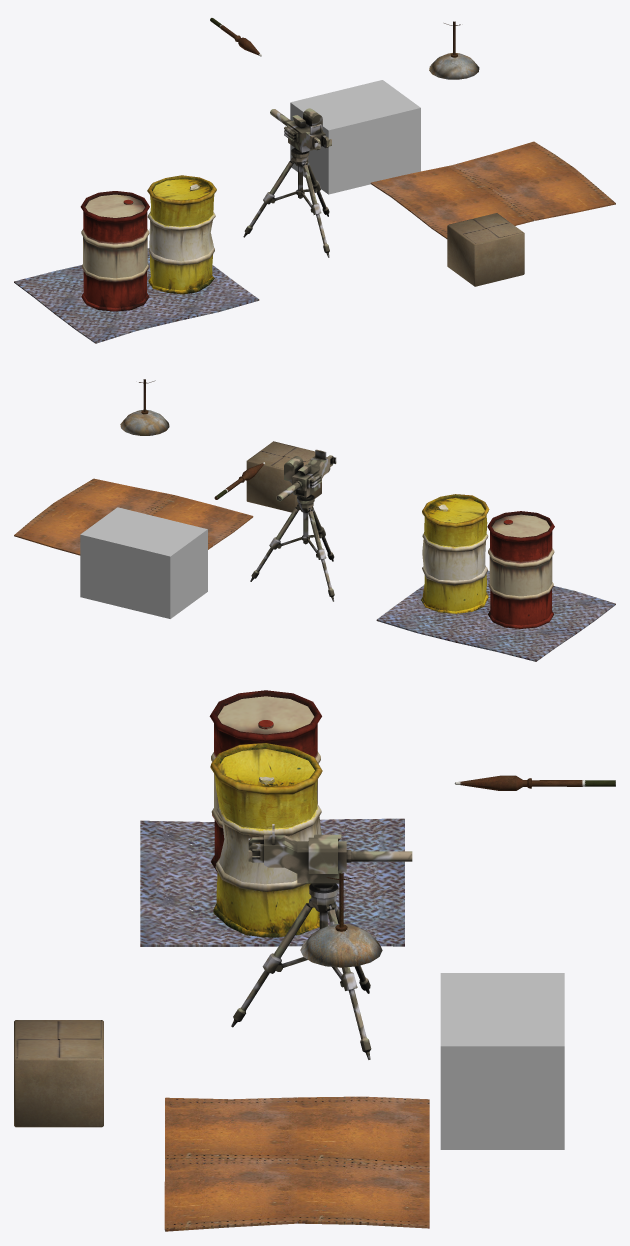
Rendered from CompoundExtras.FBX.
The picture shows the model from 3 angles, top to bottom: view 1: azimuth 30°, elevation 25°; view 2: azimuth 150°, elevation 25°; view 3: azimuth 270°, elevation 25°; orthographic projection. The views are drawn at different scales.
Visible parts, largest first — view 1: Sheet Metal Rusty, Crate, Sheet Metal Treads, Barrel, Barrel Dead Replacement, Cardboard Box, Sentry Tripod, Sentry Gun, Lamp; view 2: Crate, Sheet Metal Treads, Sheet Metal Rusty, Barrel Dead Replacement, Barrel, Cardboard Box, Sentry Tripod, Sentry Gun, Lamp; view 3: Sheet Metal Rusty, Crate, Sheet Metal Treads, Barrel Dead Replacement, Cardboard Box, Barrel, Sentry Gun, Sentry Tripod, Lamp, Rocket.
Boxes of the visible parts, x1,y1,x2,y2 form: Sheet Metal Rusty: (370,141,615,238); Crate: (290,80,420,194); Sheet Metal Treads: (14,248,259,343); Barrel: (80,191,149,311); Barrel Dead Replacement: (147,175,216,294); Cardboard Box: (447,213,524,286); Sentry Tripod: (243,148,329,257); Sentry Gun: (270,108,331,152); Lamp: (429,21,479,79); Crate: (80,507,207,618); Sheet Metal Treads: (376,570,615,661); Sheet Metal Rusty: (14,478,253,555); Barrel Dead Replacement: (421,494,489,613); Barrel: (487,511,554,628); Cardboard Box: (246,441,321,512); Sentry Tripod: (250,494,334,601); Sentry Gun: (276,449,336,501); Lamp: (120,379,169,435); Sheet Metal Rusty: (164,1096,429,1231); Crate: (440,973,564,1149); Sheet Metal Treads: (140,818,404,946); Barrel Dead Replacement: (210,743,322,937); Cardboard Box: (14,1020,103,1127); Barrel: (209,690,321,872); Sentry Gun: (248,824,412,887); Sentry Tripod: (231,883,371,1059); Lamp: (300,873,382,967); Rocket: (454,775,615,790).
Bounding box in the file's own units: 878 × 281 × 535.
